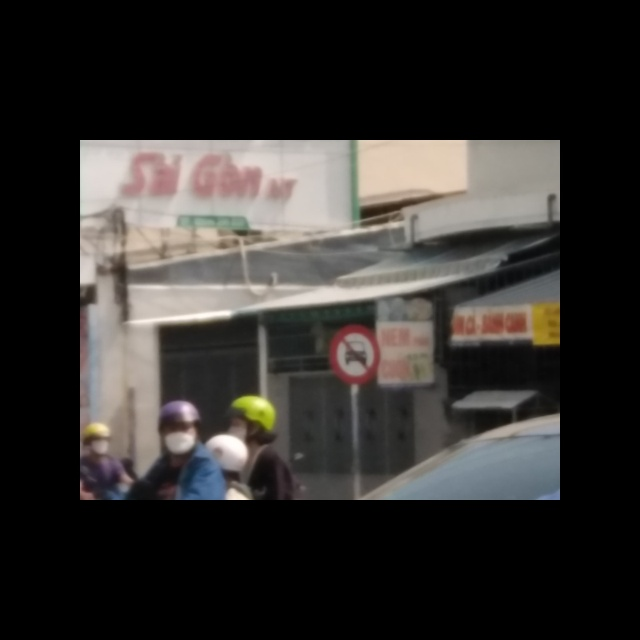Cấm xe ô tô: (328, 321, 383, 385)
